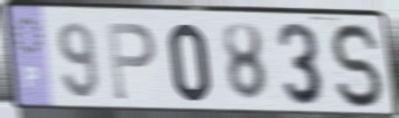0: (166, 21, 213, 105)
3: (276, 20, 328, 110)
8: (221, 21, 267, 107)
9: (56, 20, 100, 102)
P: (104, 19, 158, 104)
S: (327, 21, 389, 112)
